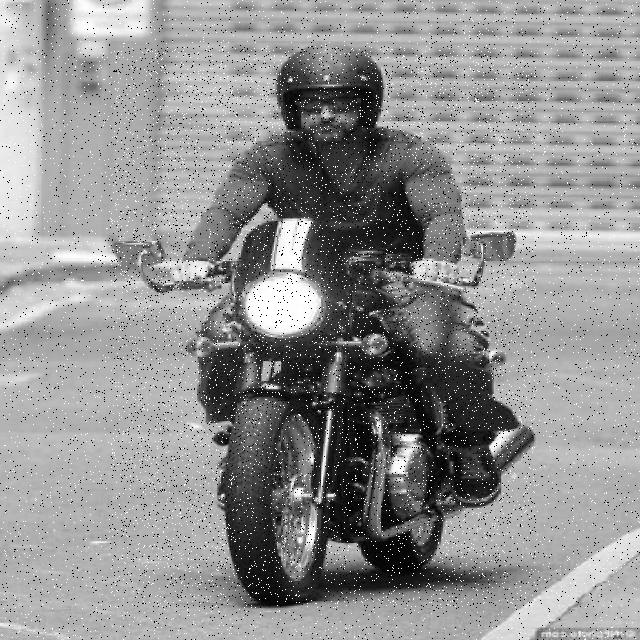Motorbike: (111, 46, 536, 608)
